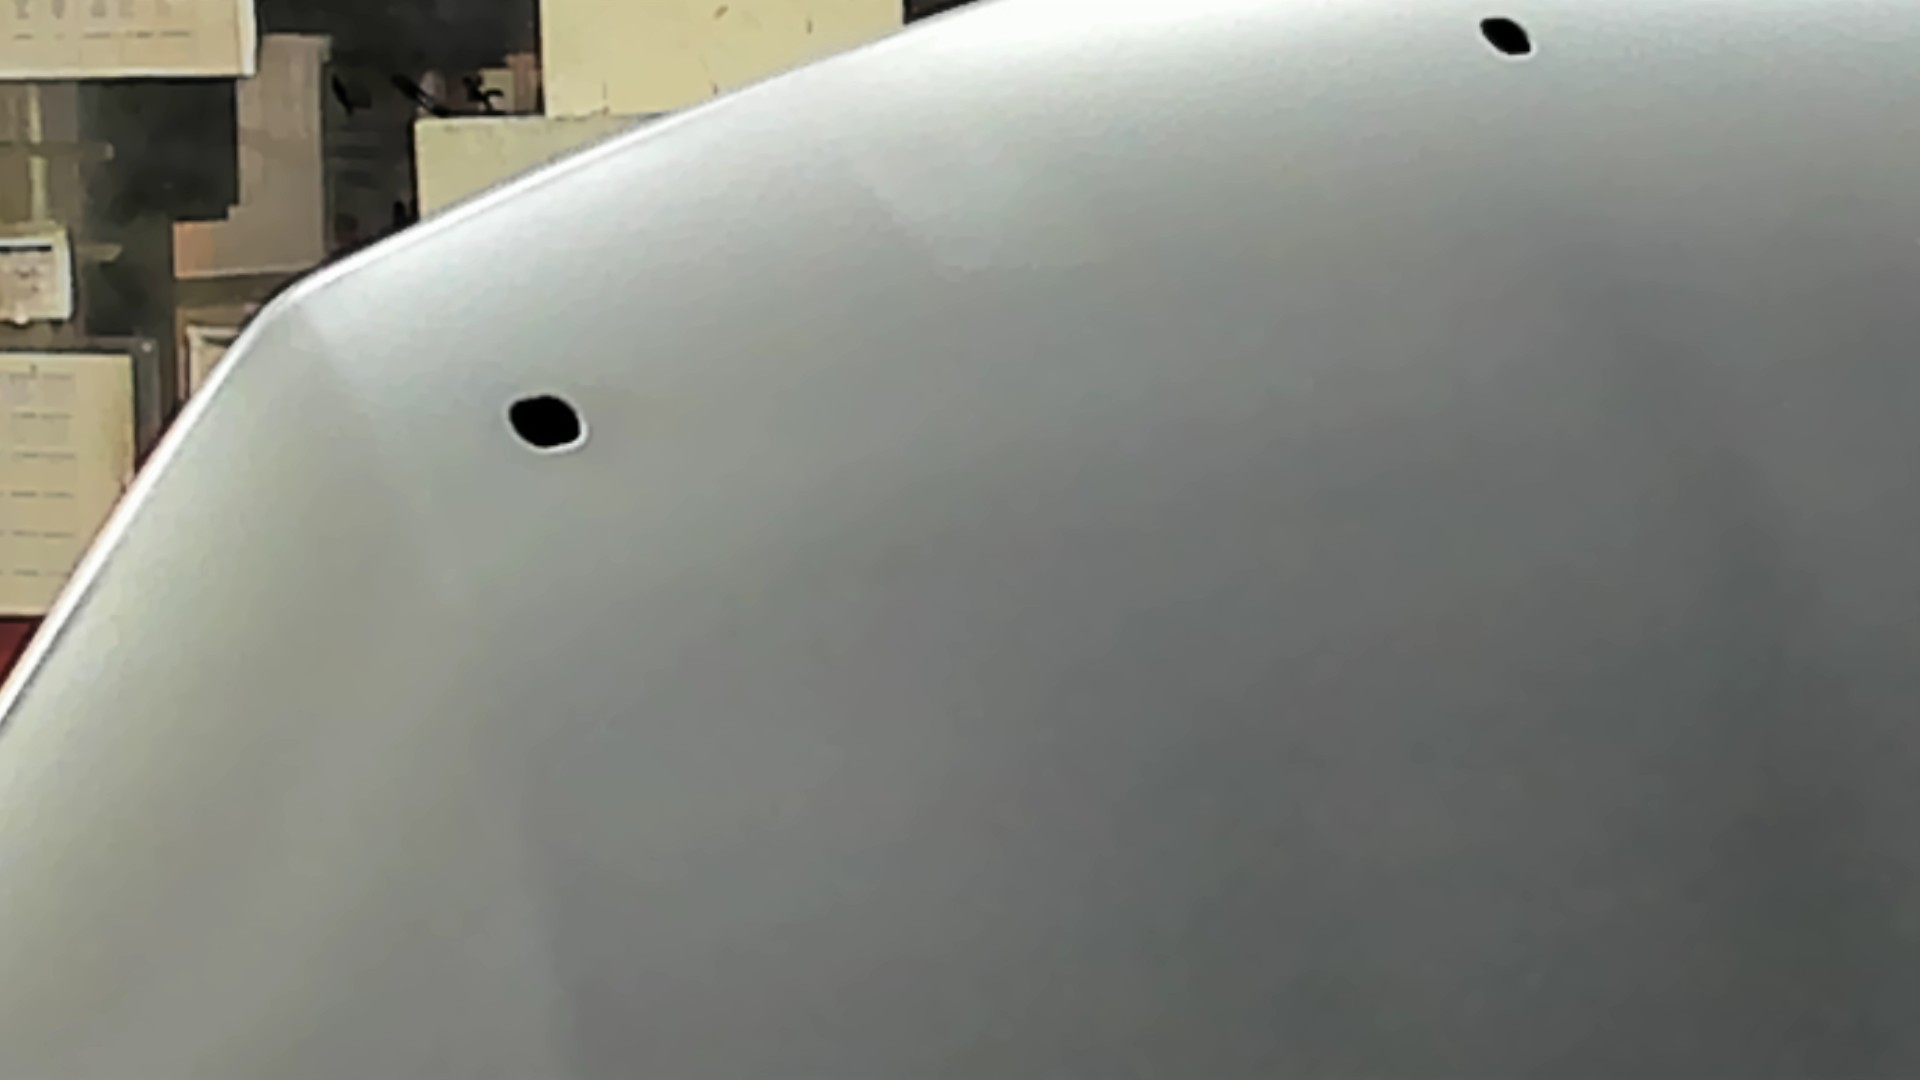amorfo: (497, 382, 584, 459), (1466, 7, 1543, 69)
